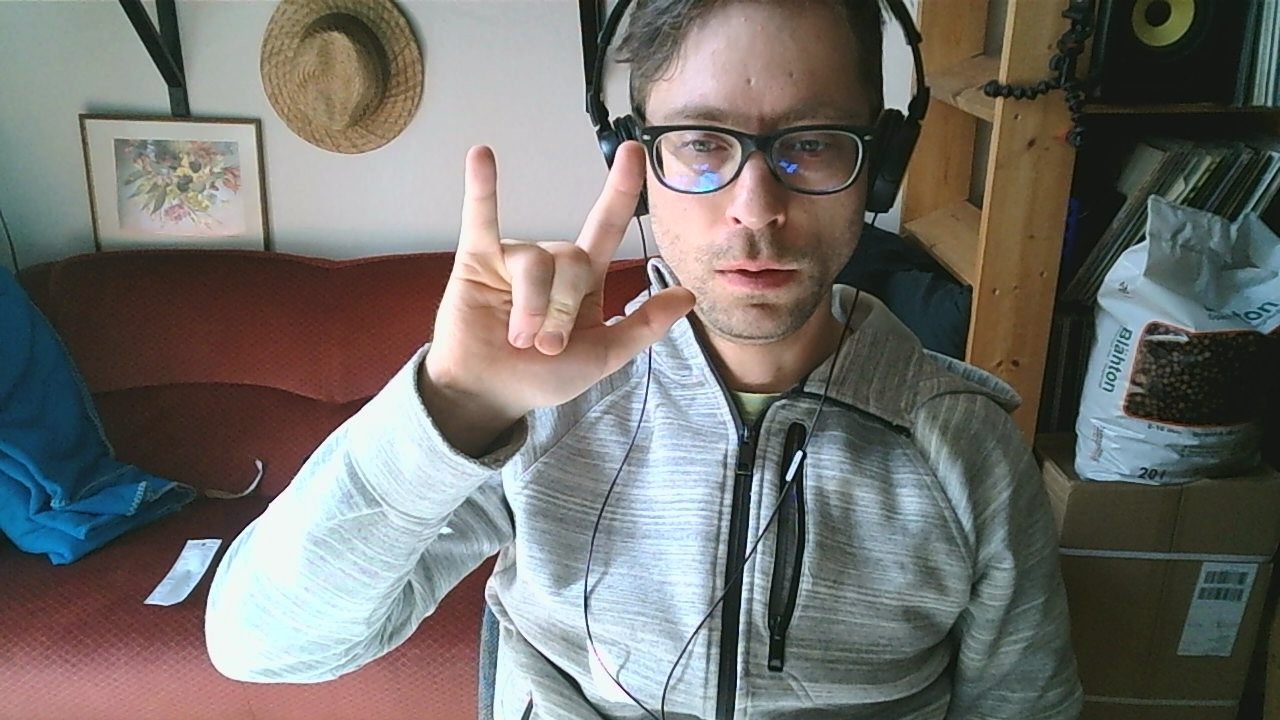iloveyou: (434, 142, 698, 411)
